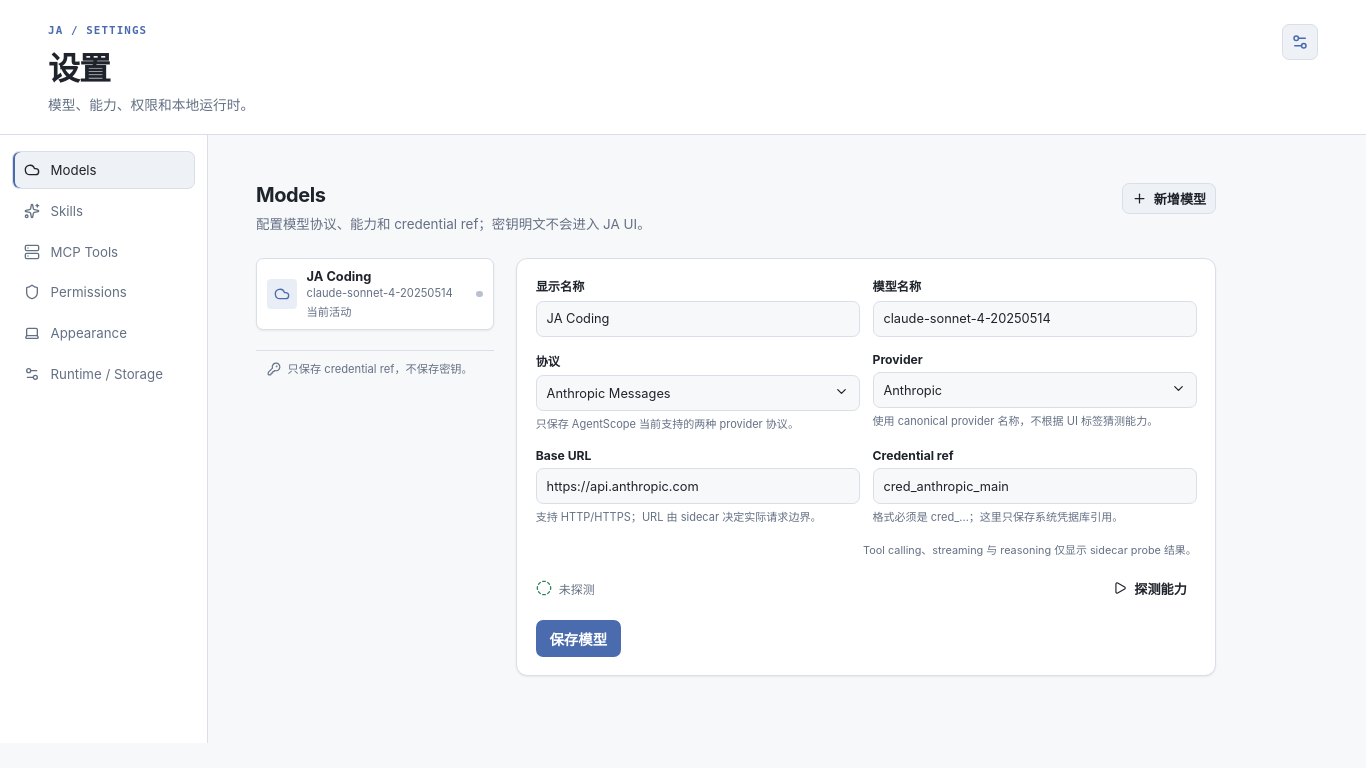
Scenario: JA Settings feature › surfaces model save failures and keeps the draft available
Click the button "保存模型" at (578, 638), box [536,620,621,657]
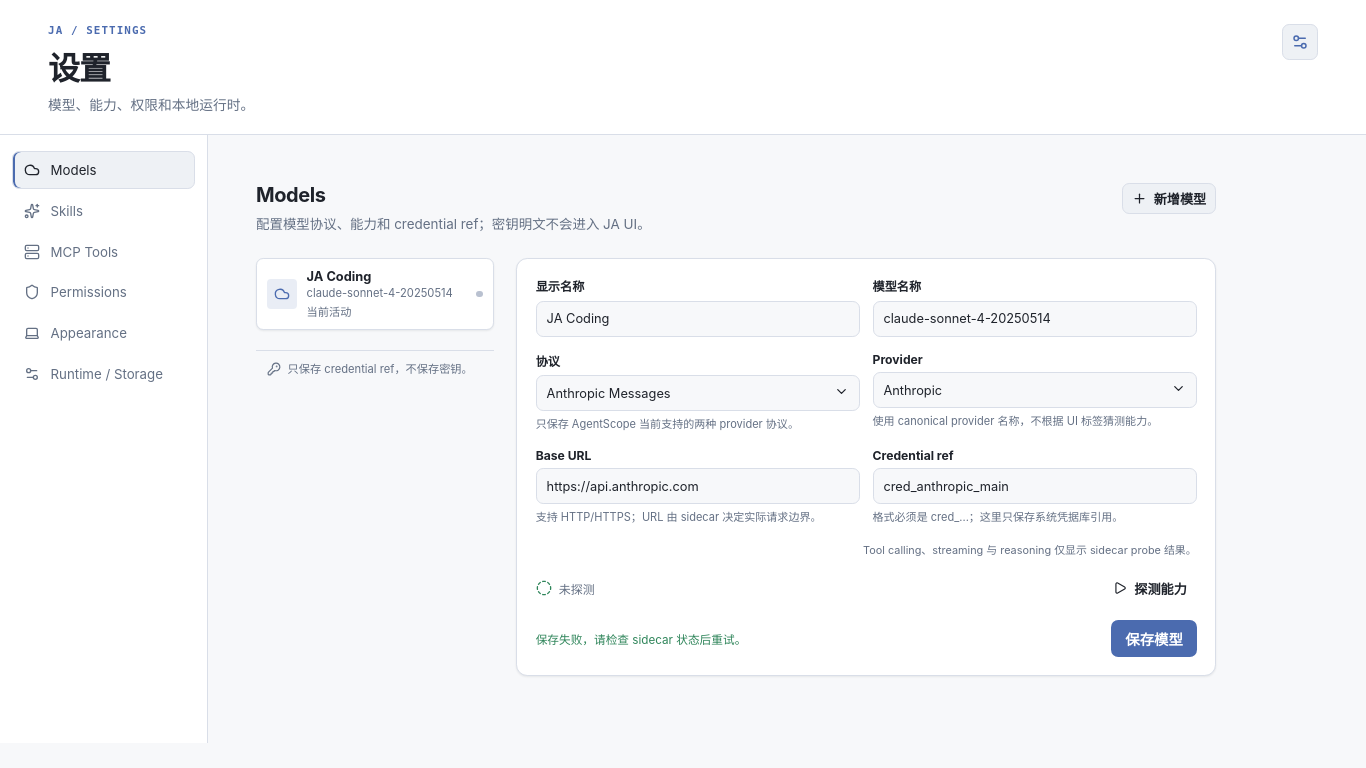
Check: the field labelled "模型名称" holds "claude-sonnet-4-20250514", box [872,301,1197,337]
Check: the text "保存失败，请检查 sidecar 状态后重试。" is shown, box [536,633,746,647]
